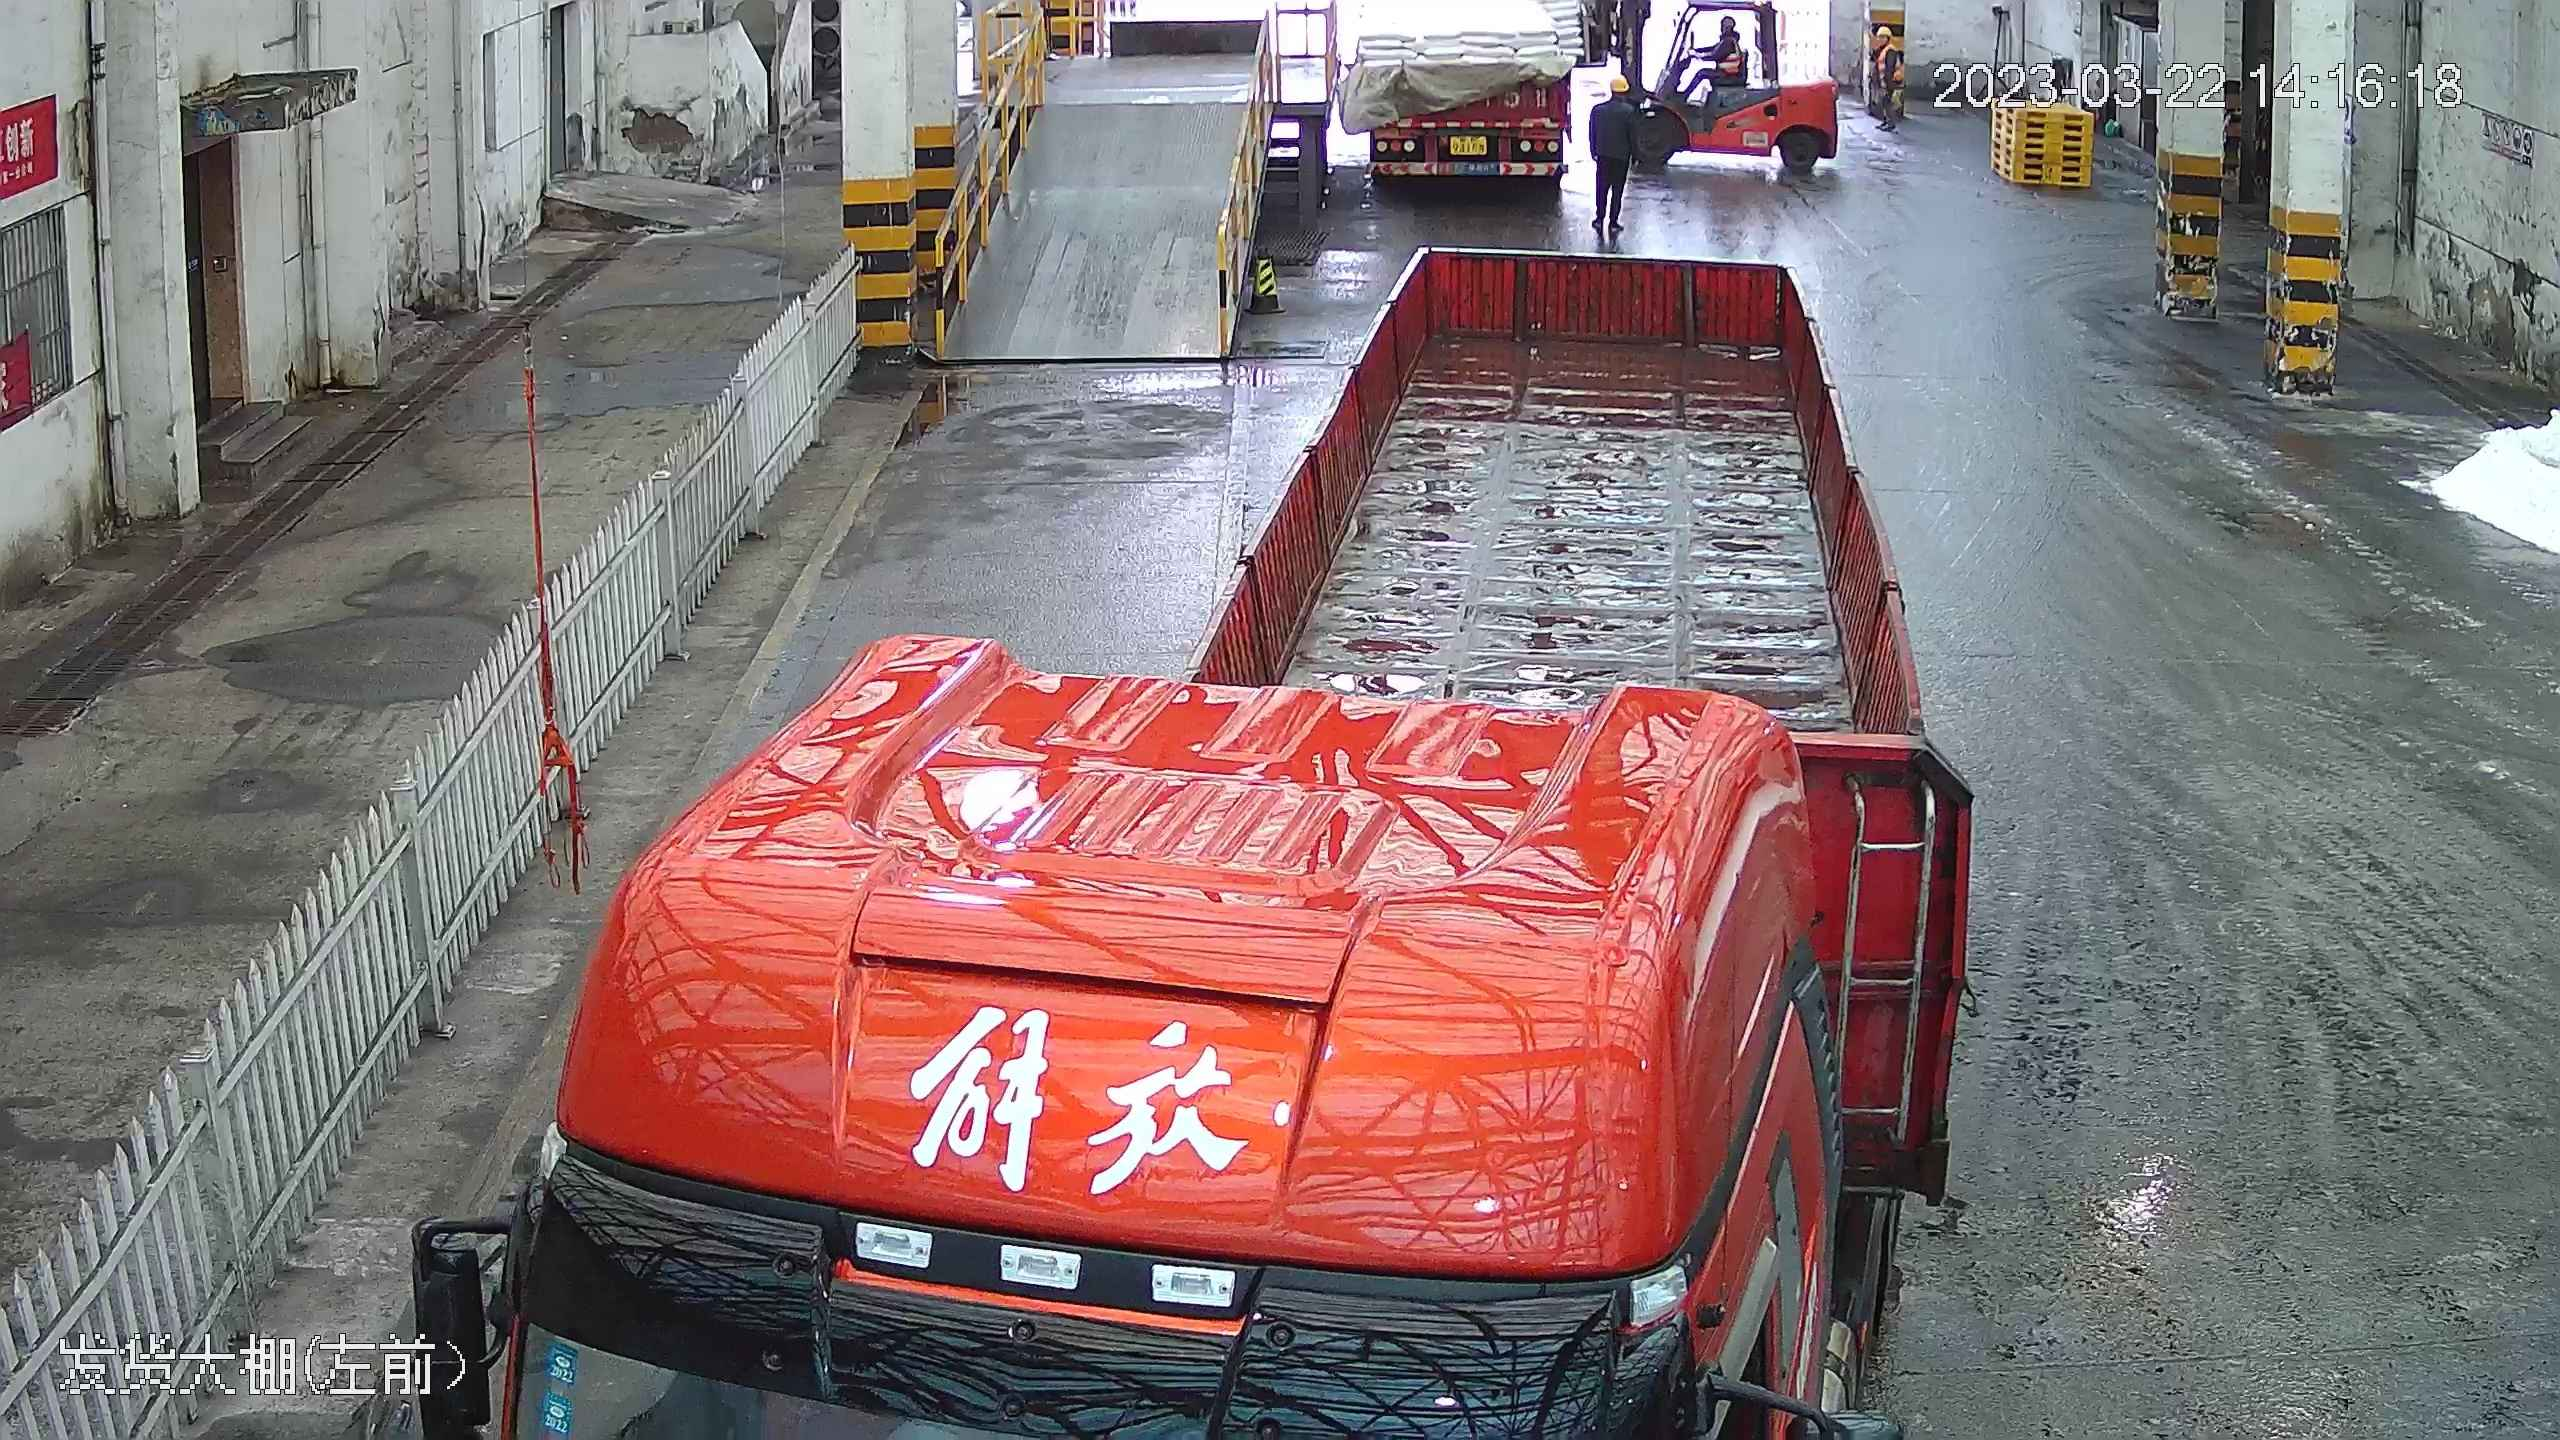head: (1589, 71, 1642, 126), (1871, 26, 1902, 68), (1712, 14, 1742, 56)
helmet: (1610, 71, 1638, 95), (1874, 26, 1891, 39), (1721, 14, 1736, 28)
people: (1580, 68, 1642, 245), (1672, 7, 1754, 103), (1683, 12, 1743, 97), (1869, 24, 1908, 135)
truck: (428, 221, 1992, 1431), (1328, 1, 1599, 192)
